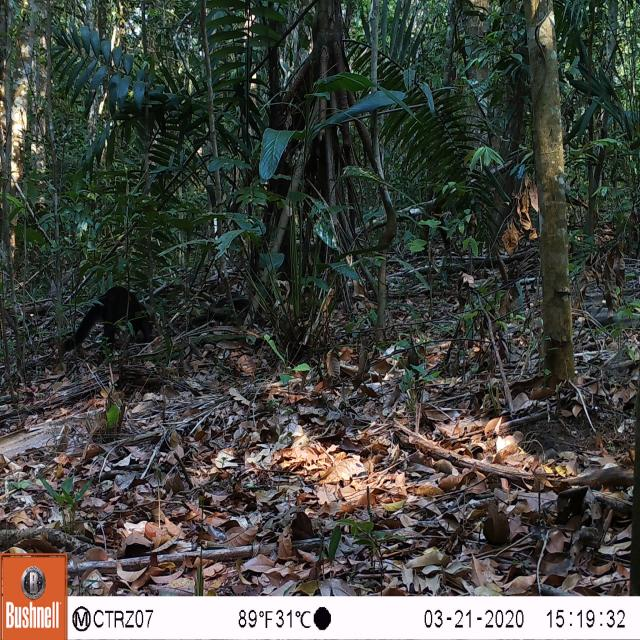Tayra: (68, 284, 158, 356)
